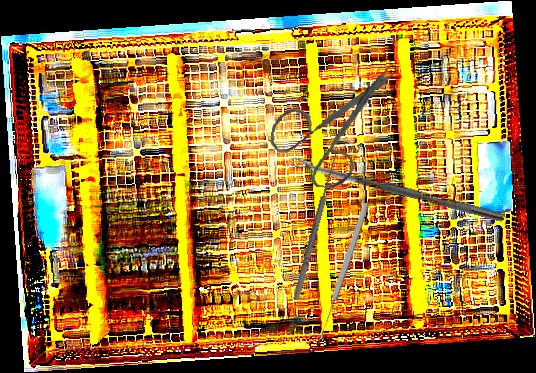Hook Surgical: (286, 147, 341, 302)
Iris Scissors: (265, 51, 399, 195)
Surgical Spoon: (290, 155, 506, 223), (316, 202, 371, 340)
